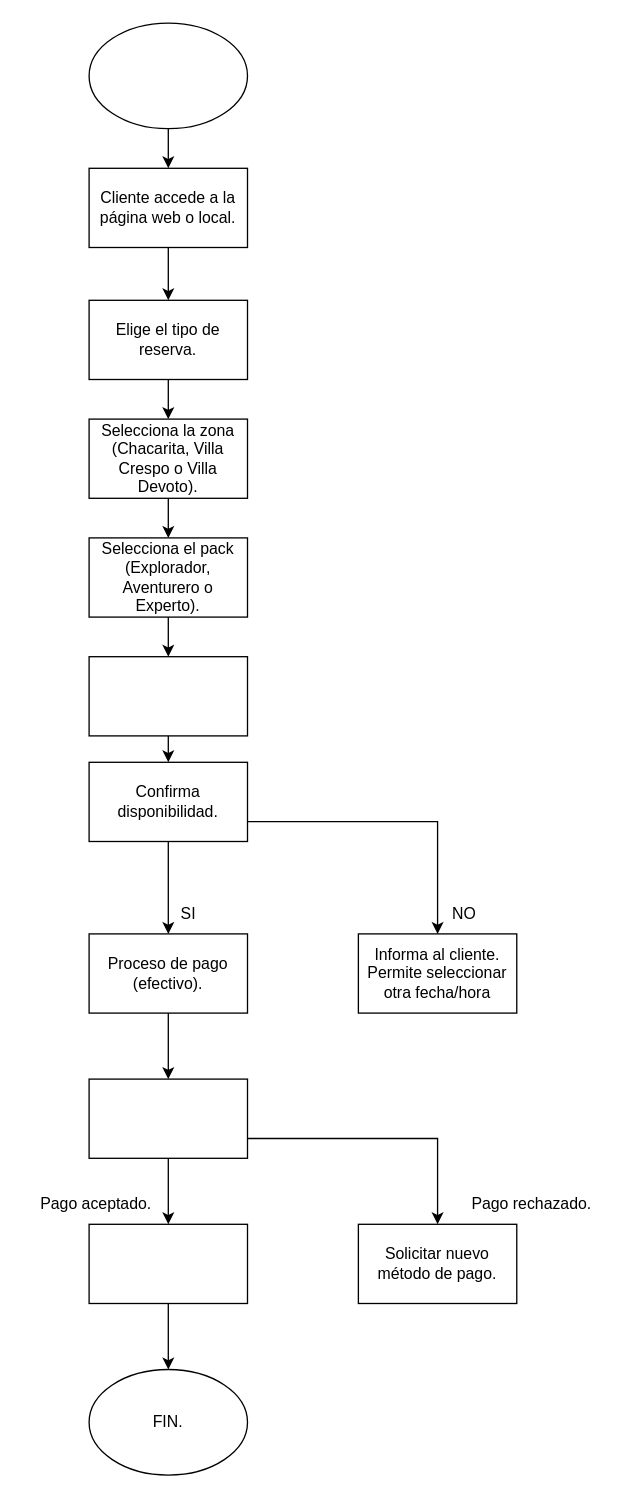
The diagram is 626 pixels wide and 1498 high, and some of its shapes have lost their labels. Each missing label, with the centre of its shape:
"Confirmación de pago." belongs at [168,1118].
"Confirmación de reserva." belongs at [168,1263].
"INICIO." belongs at [168,75].
"Selecciona la fecha y hora (de 10hs a 19hs)." belongs at [168,695].
